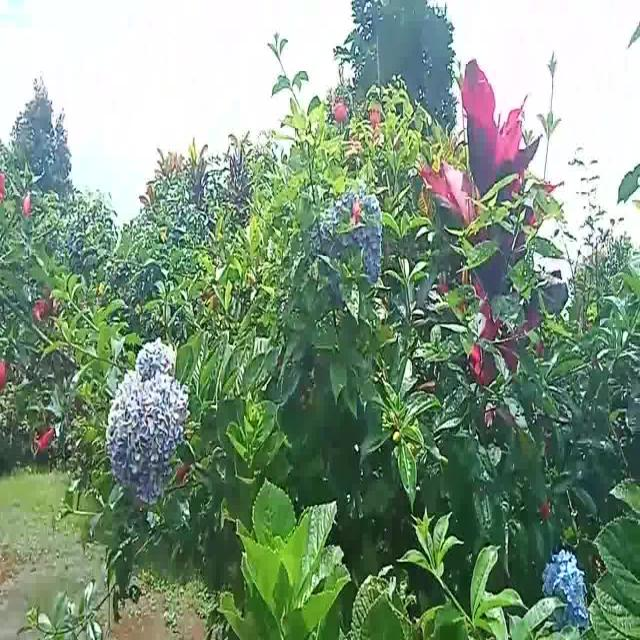Flower: (104, 337, 184, 508), (547, 547, 589, 623)
